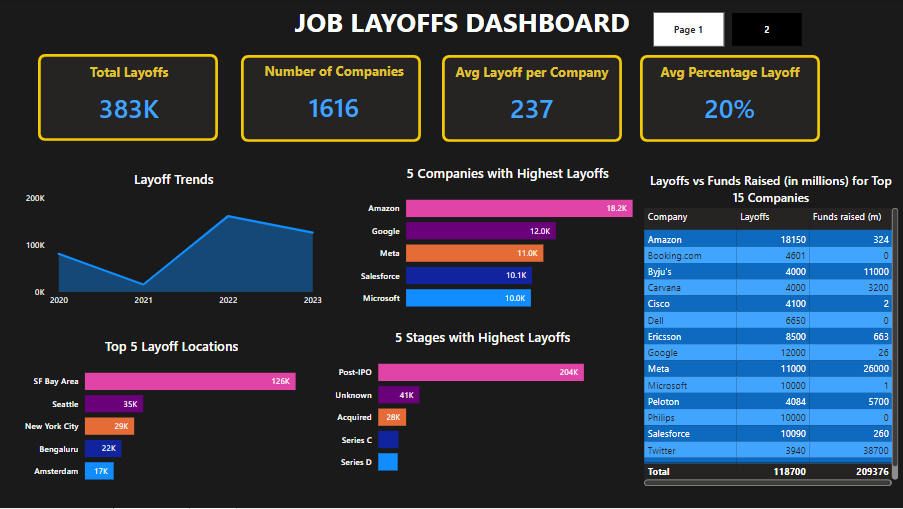

The page's visual inventory and layout, read from the dashboard file:
{"tool":"powerbi","page":{"name":"Page 1","canvas":[1280,720],"ordinal":0},"visuals":[{"type":"shape","box":[0,0,1279.6,67.2],"z":0},{"type":"textbox","box":[385,0,541.7,66.7],"z":1000},{"type":"group","id":"g1","title":"Group 1","box":[55.3,76.5,256.5,123.3],"z":2000},{"type":"shape","box":[55.3,76.5,255.1,123.3],"z":2000,"group":"g3"},{"type":"shape","box":[343,78,255.1,123.3],"z":2000,"group":"g2"},{"type":"shape","box":[627.9,78,255.1,123.3],"z":2000,"group":"g4"},{"type":"shape","box":[908.5,78,255.1,123.3],"z":2000,"group":"g5"},{"type":"shape","box":[494.6,222.5,450.5,239.4],"z":2000,"group":"g8"},{"type":"shape","box":[22.9,228.6,451.4,228.6],"z":2000,"group":"g6"},{"type":"shape","box":[458.9,455.4,450.5,239.4],"z":2000,"group":"g9"},{"type":"shape","box":[18.9,467.5,450.5,239.4],"z":2000,"group":"g7"},{"type":"group","id":"g2","title":"Group 1","box":[343,78,259.4,123.3],"z":3000},{"type":"card","title":"Number of Companies","fields":{"Values":["Sum(Number of companies.number_of_companies)"]},"box":[347.4,88.6,255.1,102],"z":3000,"group":"g2"},{"type":"card","title":"Avg Layoff per Company","fields":{"Values":["Sum(Average layoffs per company.average_layoffs_by_company)"]},"box":[627.9,89.3,255.1,102],"z":3000,"group":"g4"},{"type":"card","title":"Avg Percentage Layoff","fields":{"Values":["Sum(avg percentage layoff all sectors.avg_percentage_laid_off)"]},"box":[908.5,89.3,255.1,102],"z":3000,"group":"g5"},{"type":"card","title":"Total Layoffs","fields":{"Values":["Sum(Total layoffs.total_layoffs)"]},"box":[56.7,89.8,255.1,102],"z":3000,"group":"g3"},{"type":"group","id":"g3","title":"Group 2","box":[55.3,76.5,256.5,123.3],"z":3003,"group":"g1"},{"type":"areaChart","title":"Layoff Trends","fields":{"Y":["Sum(Layoffs over time.total_layoff)"],"Category":["Layoffs over time.year"]},"box":[32.9,241.5,430,202.9],"z":3005,"group":"g6"},{"type":"group","id":"g4","title":"Group 1","box":[627.9,78,255.1,123.3],"z":4000},{"type":"group","id":"g5","title":"Group 1","box":[908.5,78,255.1,123.3],"z":5000},{"type":"group","id":"g6","title":"Group 3","box":[22.9,228.6,451.4,228.6],"z":6000},{"type":"group","id":"g7","title":"Group 4","box":[18.9,467.5,450.5,239.4],"z":7000},{"type":"group","id":"g8","title":"Group 4","box":[494.6,222.5,450.7,239.5],"z":8000},{"type":"barChart","title":"5 Companies with Highest Layoffs","fields":{"Category":["Top 5 layoffs by company.company"],"Y":["Sum(Top 5 layoffs by company.total_company_layoff)"],"Series":["Top 5 layoffs by company.total_company_layoff"]},"box":[505.9,231.9,429.8,220.6],"z":8000,"group":"g8"},{"type":"barChart","title":"5 Stages with Highest Layoffs","fields":{"Category":["Top 5 stages with the highest layoffs.stage"],"Y":["Sum(Top 5 stages with the highest layoffs.total_laid_off)"],"Series":["Top 5 stages with the highest layoffs.total_laid_off"]},"box":[470.2,464.8,429.8,220.6],"z":8000,"group":"g9"},{"type":"barChart","title":"Top 5 Layoff Locations","fields":{"Category":["top 5 layoffs by location.location"],"Y":["Sum(top 5 layoffs by location.total_laid_off)"],"Series":["top 5 layoffs by location.total_laid_off"]},"box":[30.2,476.9,429.8,220.6],"z":8000,"group":"g7"},{"type":"group","id":"g9","title":"Group 4","box":[458.9,455.4,450,238.4],"z":9000},{"type":"tableEx","title":"Layoffs vs Funds Raised (in millions) for Top 15 Companies","fields":{"Values":["Company funds raised layoff.company","Sum(Company funds raised layoff.total_company_layoff)","Sum(Company funds raised layoff.total_funds_raised)"]},"box":[908.9,243.8,371.1,450],"z":10000},{"type":"pageNavigator","box":[926.9,17,212.6,49.6],"z":11000}]}

Visuals, with their boxes in screenshot pixels (x1, y1, x2, y2), scaled from the page's 1280x720 canvas onto the 903x509 screenshot:
shape: Rect(0, 0, 902, 48)
textbox: Rect(272, 0, 654, 47)
"Group 1" group: Rect(39, 54, 220, 141)
shape: Rect(39, 54, 219, 141)
shape: Rect(242, 55, 422, 142)
shape: Rect(443, 55, 623, 142)
shape: Rect(641, 55, 821, 142)
shape: Rect(349, 157, 667, 327)
shape: Rect(16, 162, 335, 323)
shape: Rect(324, 322, 642, 491)
shape: Rect(13, 330, 331, 500)
"Group 1" group: Rect(242, 55, 425, 142)
"Number of Companies" card: Rect(245, 63, 425, 135)
"Avg Layoff per Company" card: Rect(443, 63, 623, 135)
"Avg Percentage Layoff" card: Rect(641, 63, 821, 135)
"Total Layoffs" card: Rect(40, 63, 220, 136)
"Group 2" group: Rect(39, 54, 220, 141)
"Layoff Trends" areaChart: Rect(23, 171, 327, 314)
"Group 1" group: Rect(443, 55, 623, 142)
"Group 1" group: Rect(641, 55, 821, 142)
"Group 3" group: Rect(16, 162, 335, 323)
"Group 4" group: Rect(13, 330, 331, 500)
"Group 4" group: Rect(349, 157, 667, 327)
"5 Companies with Highest Layoffs" barChart: Rect(357, 164, 660, 320)
"5 Stages with Highest Layoffs" barChart: Rect(332, 329, 635, 485)
"Top 5 Layoff Locations" barChart: Rect(21, 337, 325, 493)
"Group 4" group: Rect(324, 322, 641, 490)
"Layoffs vs Funds Raised (in millions) for Top 15 Companies" tableEx: Rect(641, 172, 902, 490)
pageNavigator: Rect(654, 12, 804, 47)
